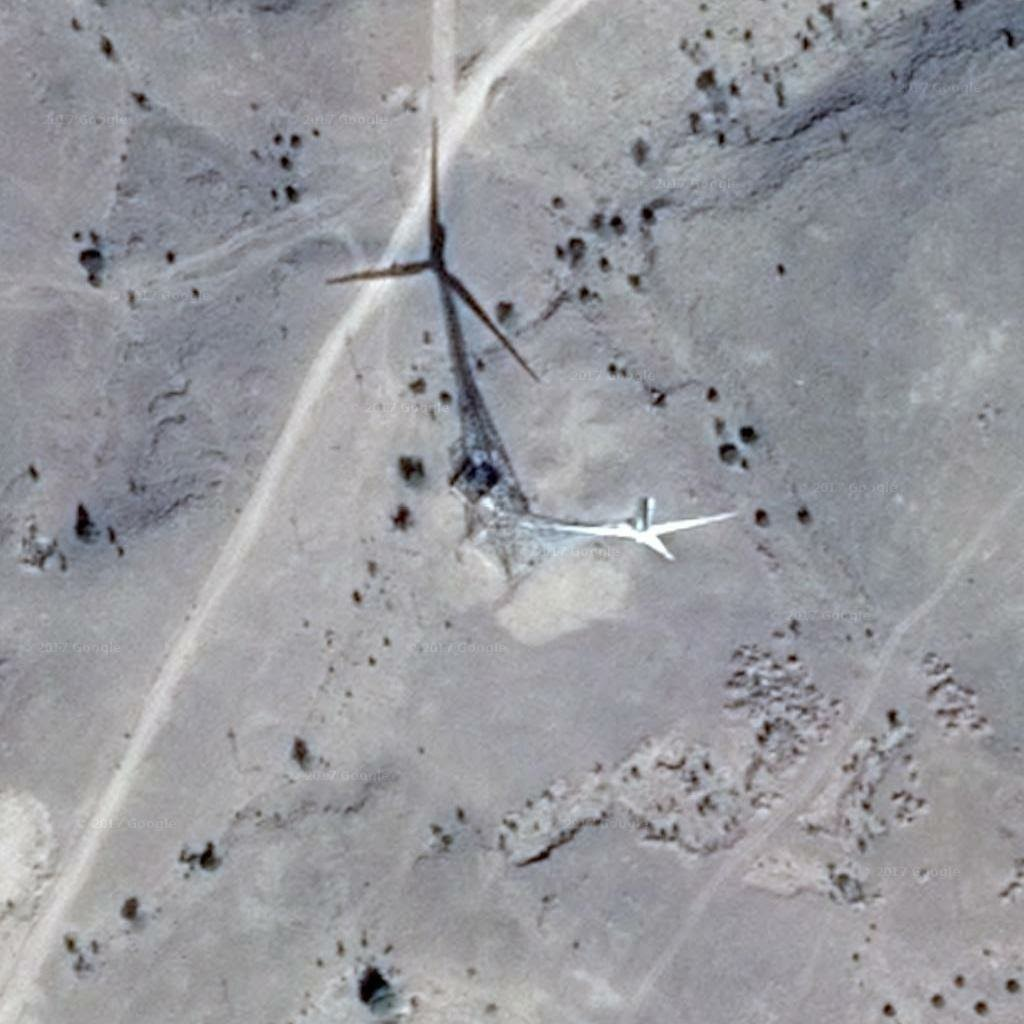Windmill: (323, 114, 551, 541)
